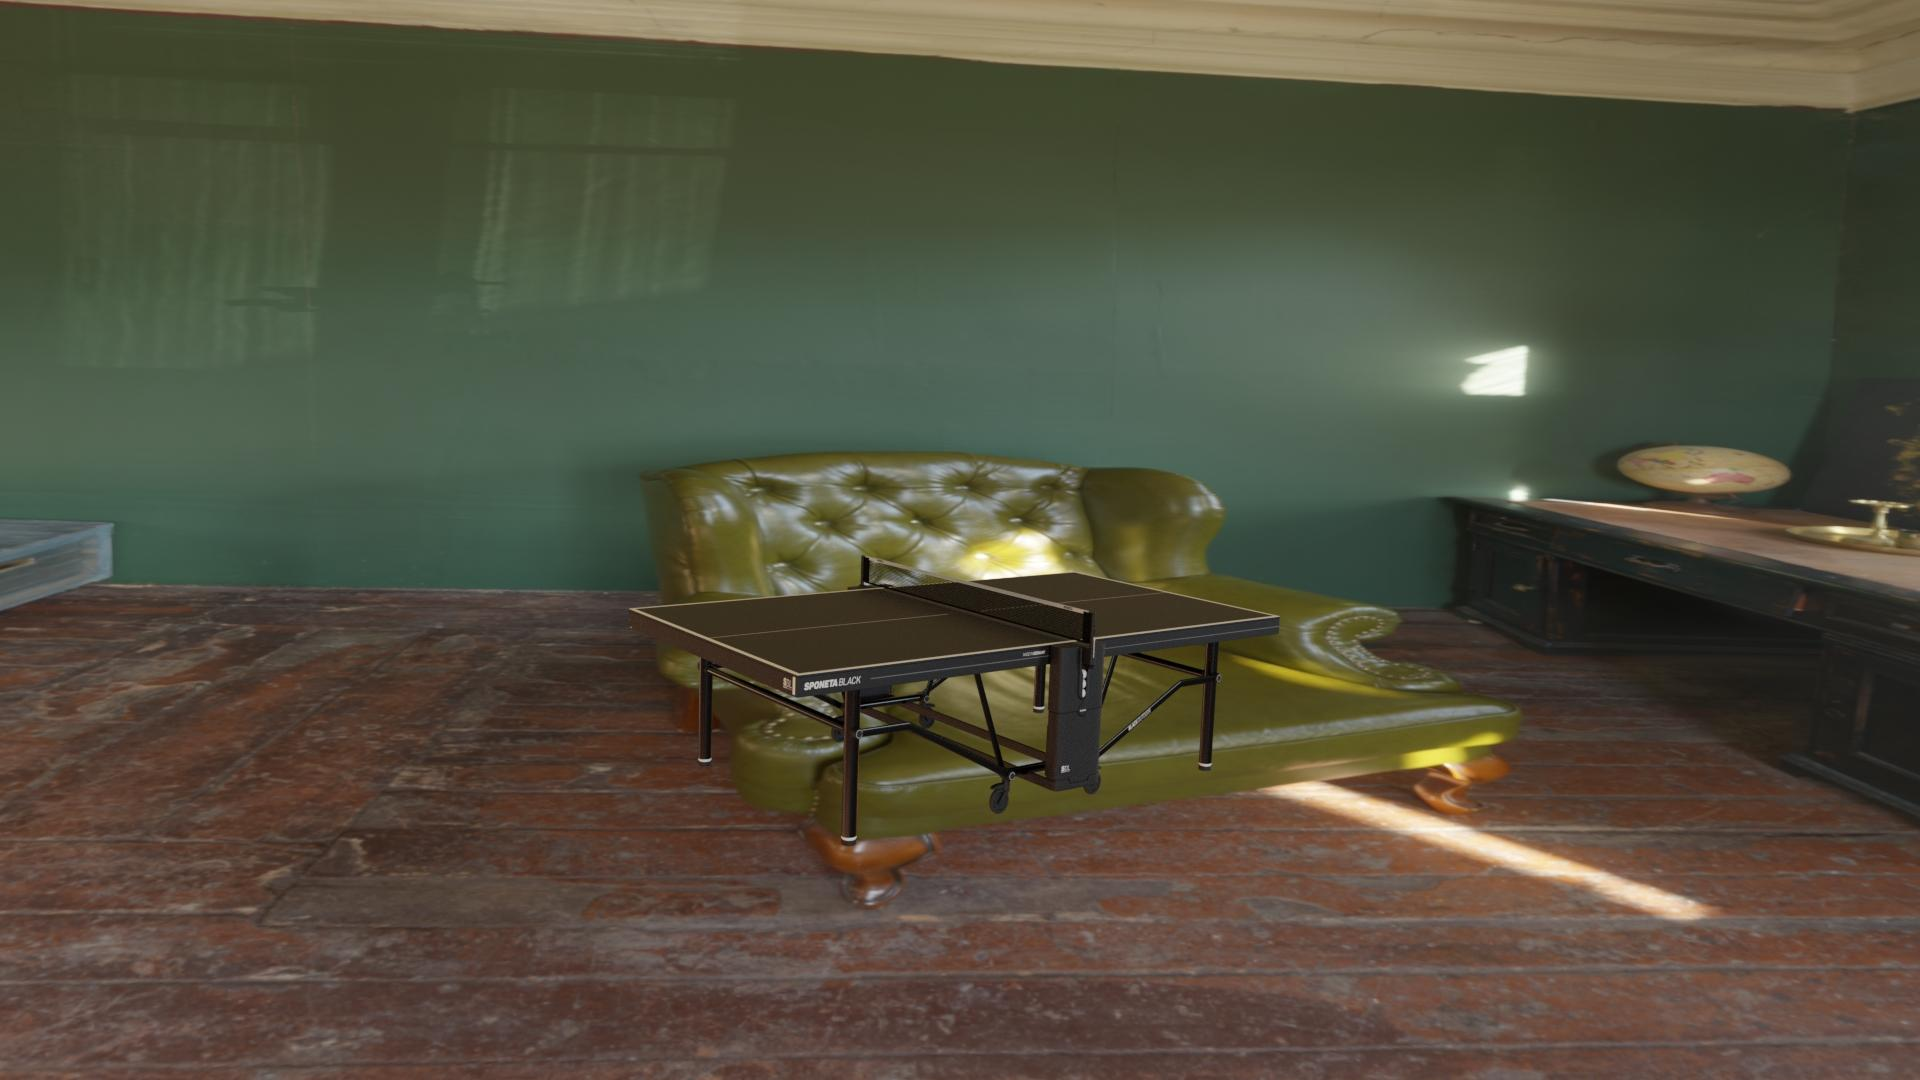table: (634, 572, 1274, 674)
